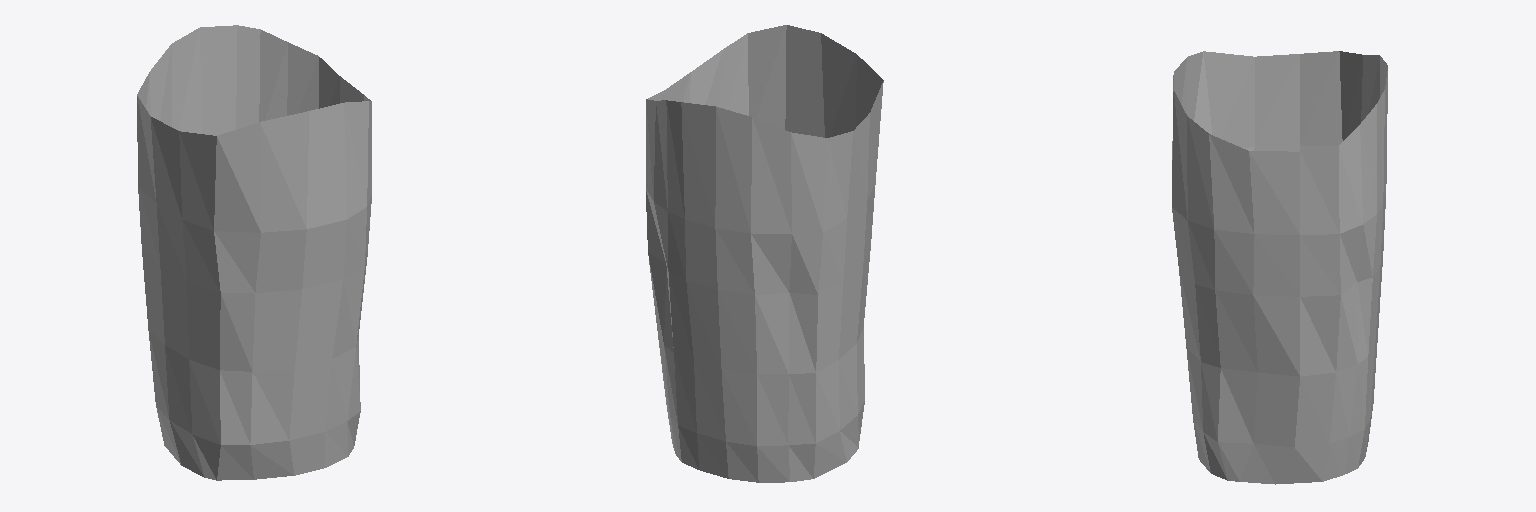
File: leftArm4Cover.obj
3 renders of one model, left to right at view 1: azimuth 30°, elevation 25°; view 2: azimuth 150°, elevation 25°; view 3: azimuth 270°, elevation 25°, orthographic.
Parts seen in each view (by area): view 1: unnamed_object1; view 2: unnamed_object1; view 3: unnamed_object1.
Part boxes in pixels (x1,y1,x2,y2): unnamed_object1: (137,25,371,480); unnamed_object1: (646,25,883,482); unnamed_object1: (1172,51,1387,484).
Size of the model in its own units: 7.07 by 13.44 by 6.95.